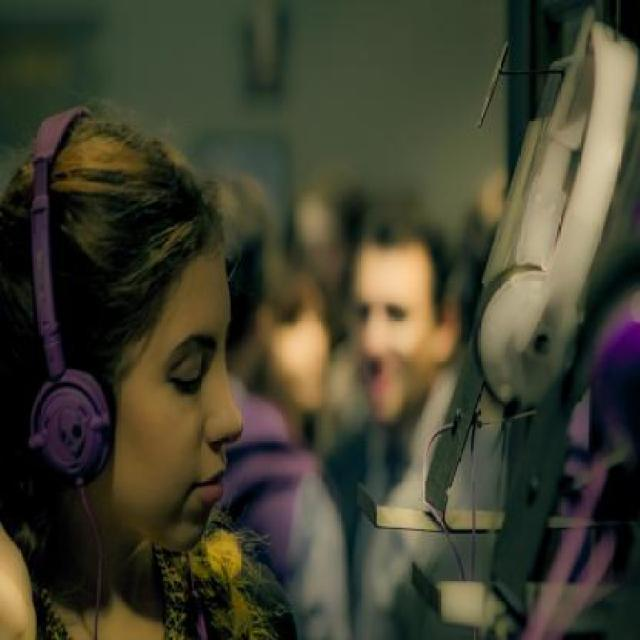earphone: (12, 99, 150, 468)
